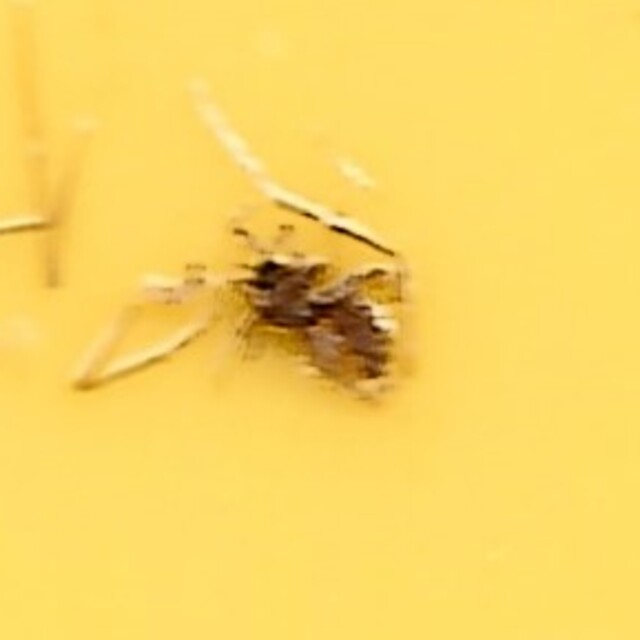Nematocera: (221, 240, 419, 400)
